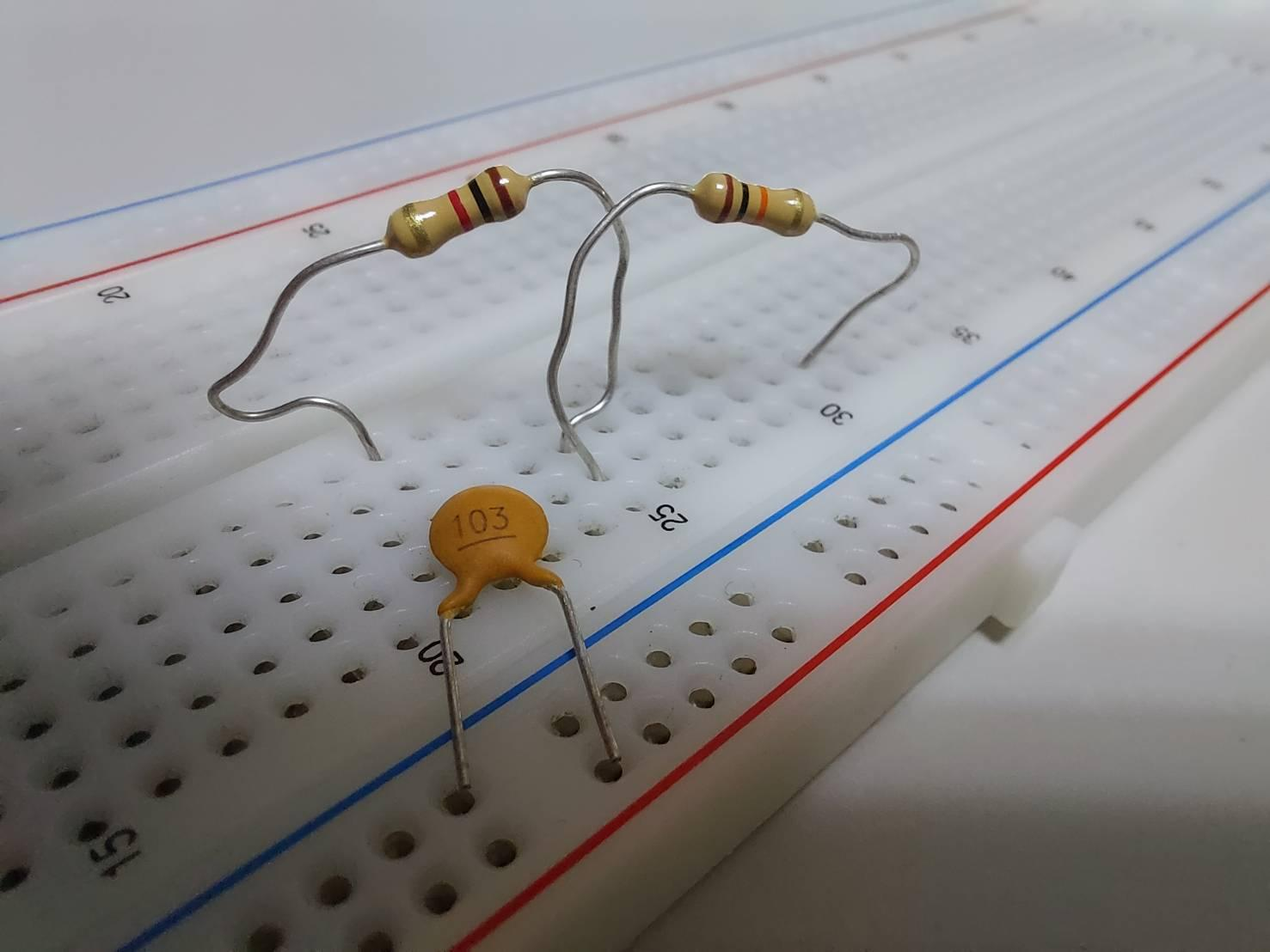resistor: (381, 164, 540, 259), (683, 162, 820, 241)
